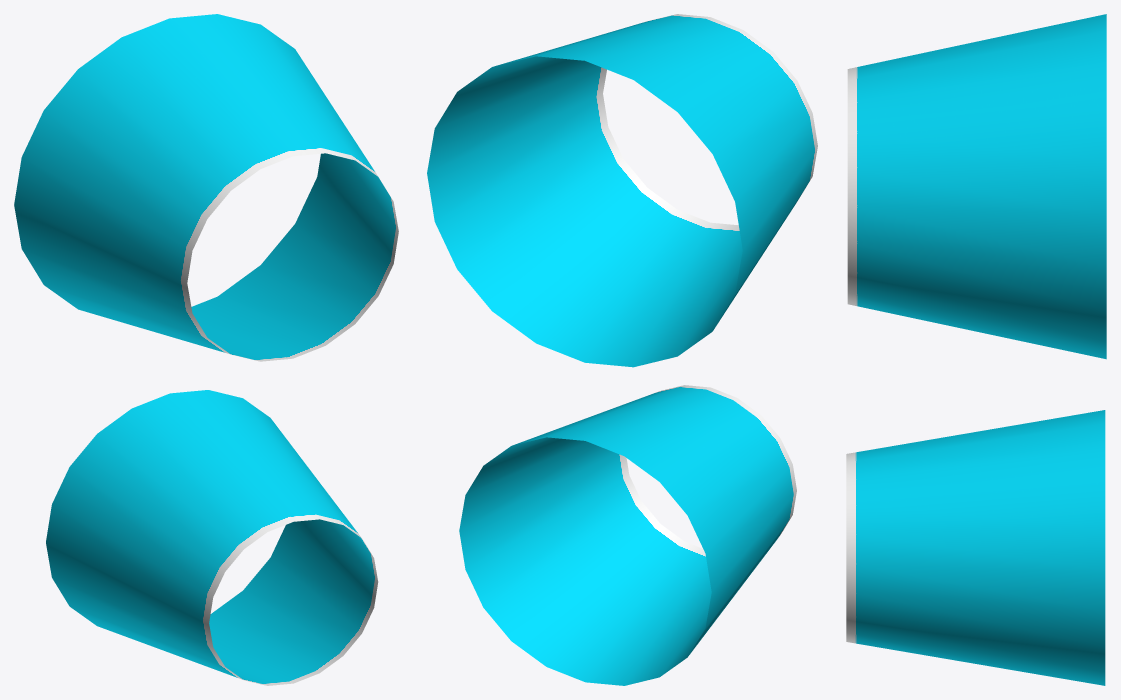
Rendered from PlayerShip_Thrusters_01.FBX.
3 views of the same model, side by side, from view 1: azimuth 30°, elevation 25°; view 2: azimuth 150°, elevation 25°; view 3: azimuth 270°, elevation 25° (orthographic). The views are drawn at different scales.
Parts seen in each view (by area): view 1: Thrusters_01; view 2: Thrusters_01; view 3: Thrusters_01.
Part boxes in pixels (left/top/right/bottom): Thrusters_01: left=14, top=14, right=398, bottom=685; Thrusters_01: left=427, top=14, right=817, bottom=685; Thrusters_01: left=846, top=14, right=1106, bottom=685.
Size of the model in its own units: 1090 by 754 by 2051.
Materials: 1 (1 with a texture image).
